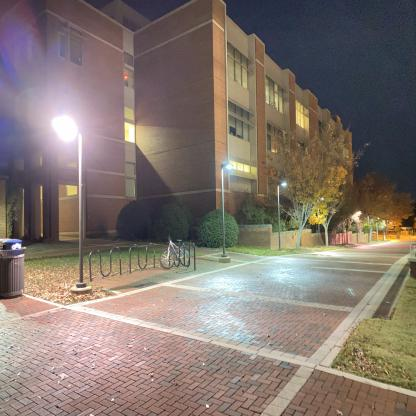eb3: (2, 2, 366, 235)
